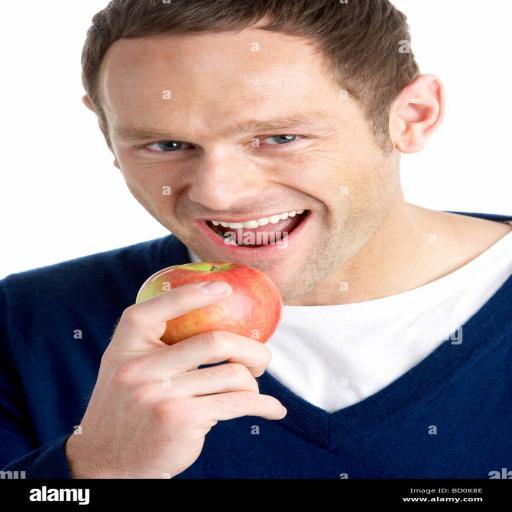apple: (136, 262, 283, 344)
